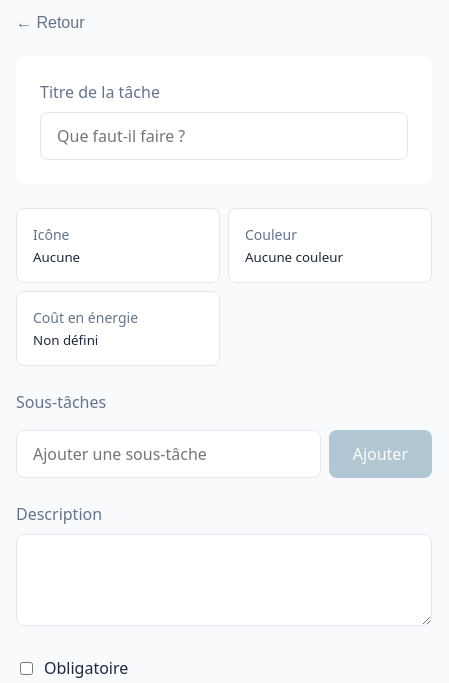
Test: E21CreateTaskV2 › Icône se referme après sélection d'une valeur (#37)
Click the button with aria-label "Modifier Icône". click: coordinates (118, 246)
box: x1=33 y1=225 x2=203 y2=266
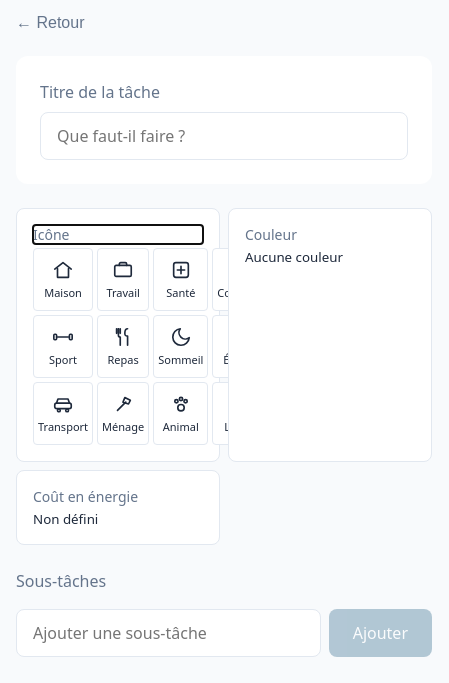
Click the button "Maison". click: coordinates (63, 280)
box: x1=33 y1=248 x2=93 y2=311
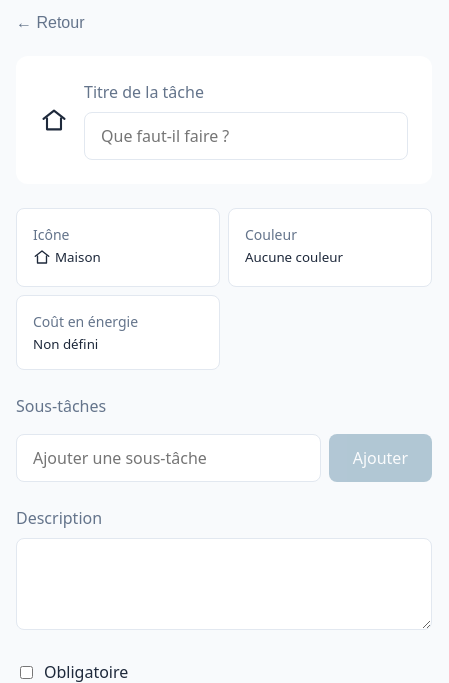
Expected: the button with aria-label "Modifier Icône" is collapsed, x1=33 y1=225 x2=203 y2=270
